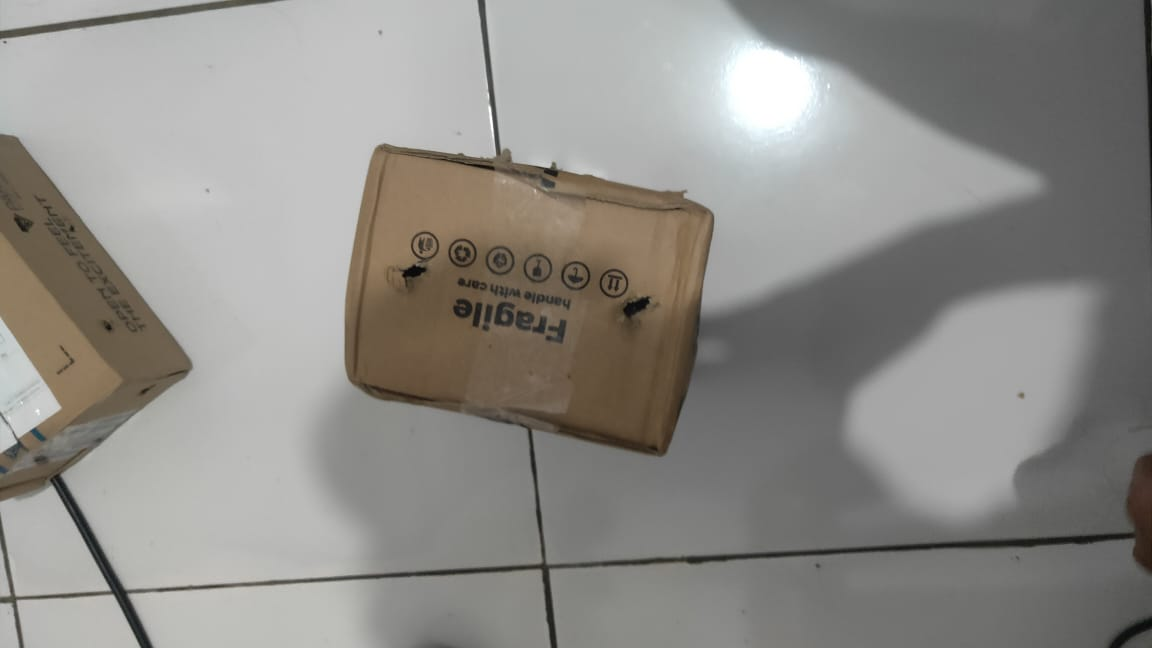damaged package: (613, 285, 667, 339), (379, 256, 442, 298)
undamaged: (342, 145, 714, 458)
